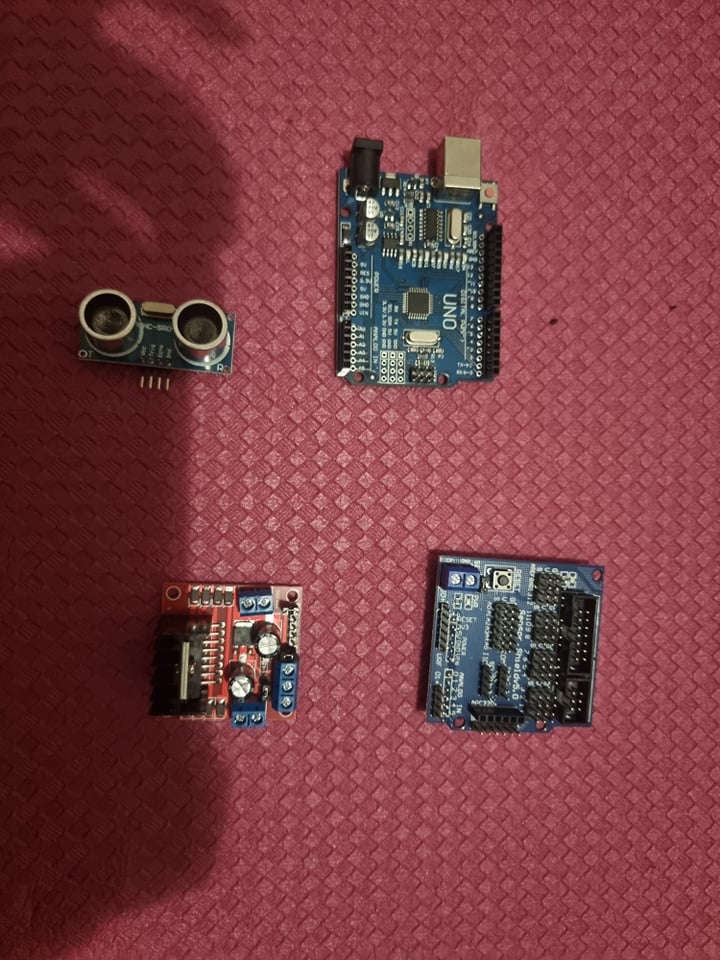5V EXPANSION: (420, 549, 601, 735)
MOTOR: (149, 585, 298, 728)
SENSOR: (72, 287, 237, 376)
UNO R3: (333, 135, 507, 391)
